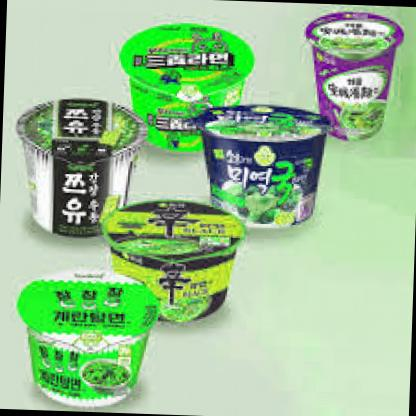Ramen: (6, 276, 170, 406), (12, 101, 146, 238), (122, 20, 254, 154), (102, 198, 246, 320), (196, 108, 332, 231), (303, 10, 408, 142)
